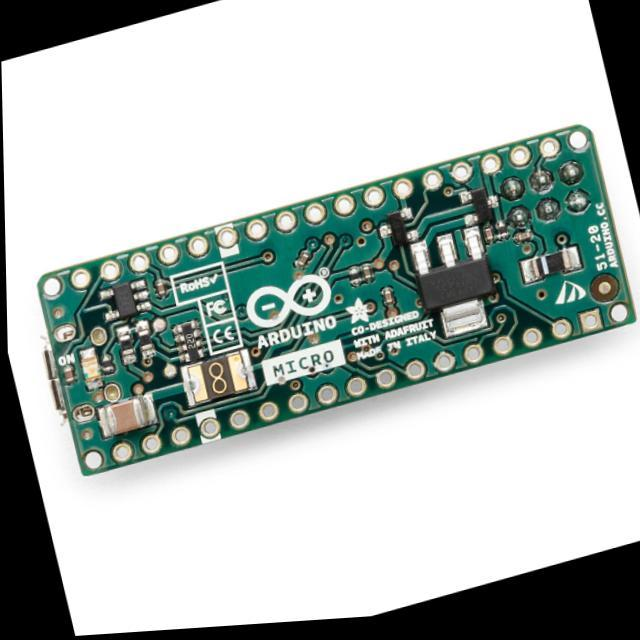Arduino-Micro: (38, 125, 636, 475)
